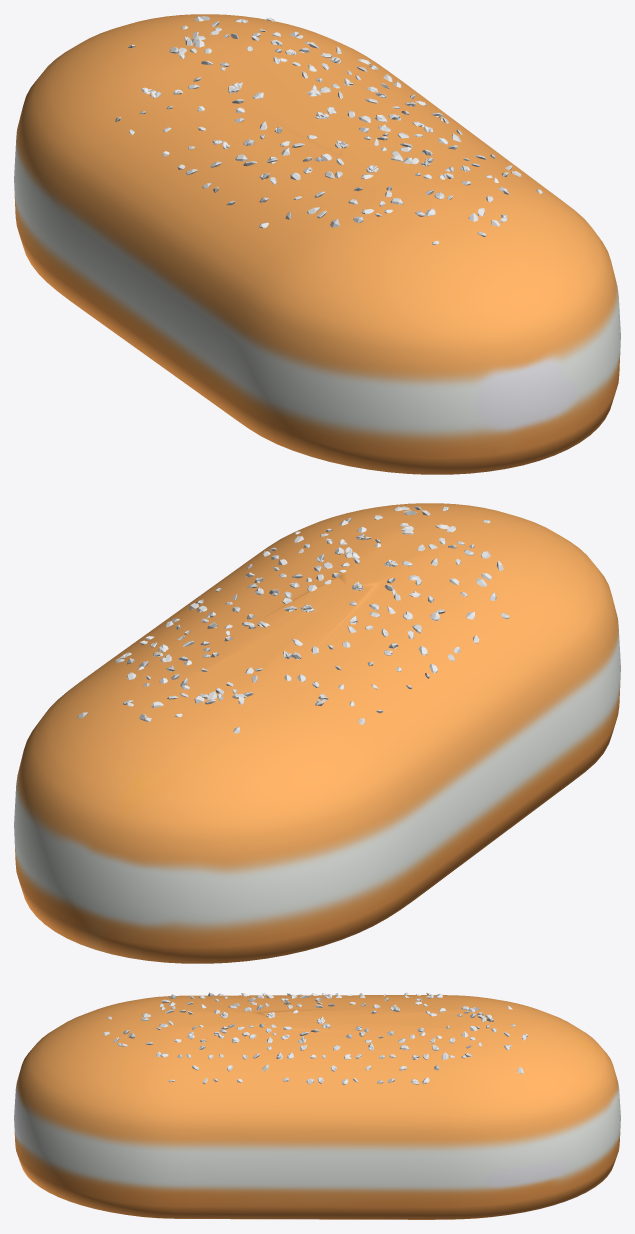
The model's file is roti ayam.fbx.
3 renders of one model, top to bottom at view 1: azimuth 30°, elevation 25°; view 2: azimuth 150°, elevation 25°; view 3: azimuth 270°, elevation 25°, orthographic. The views are drawn at different scales.
Visible parts, largest first — view 1: Cylinder, Cube.002; view 2: Cylinder, Cube.002; view 3: Cylinder, Cube.002.
Boxes of the visible parts, x1=… form: Cylinder: x1=14, y1=14, x2=620, y2=474; Cube.002: x1=115, y1=16, x2=542, y2=244; Cylinder: x1=14, y1=503, x2=620, y2=963; Cube.002: x1=77, y1=506, x2=509, y2=733; Cylinder: x1=14, y1=995, x2=620, y2=1219; Cube.002: x1=103, y1=992, x2=528, y2=1084.
Size of the model in its own units: 235 by 134 by 481.
